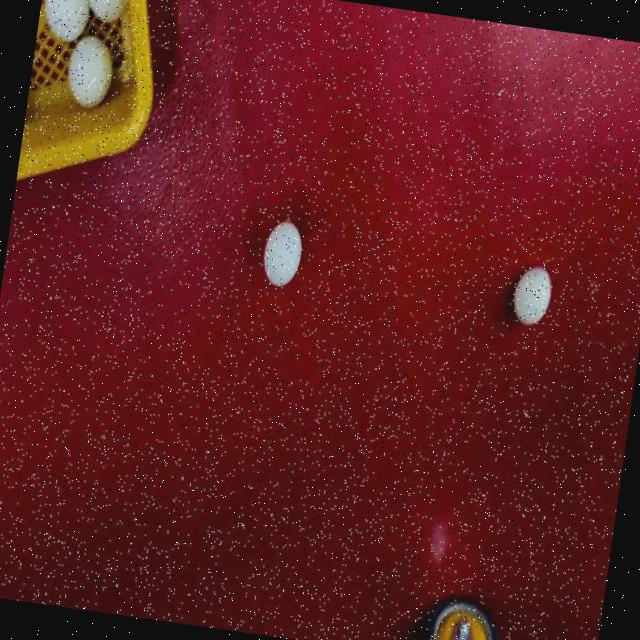ping-pong-ball: (61, 30, 120, 114), (258, 215, 310, 295), (507, 258, 560, 332), (38, 0, 99, 46), (79, 0, 134, 27)
